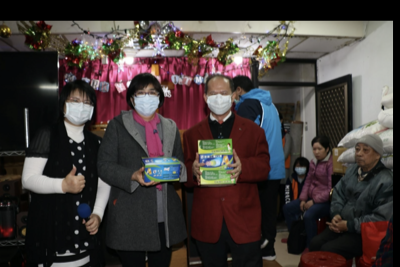with_mask: (65, 96, 95, 125), (133, 88, 160, 115), (208, 89, 231, 114), (297, 164, 308, 176)
without_mask: (356, 146, 378, 167), (313, 145, 327, 160)
